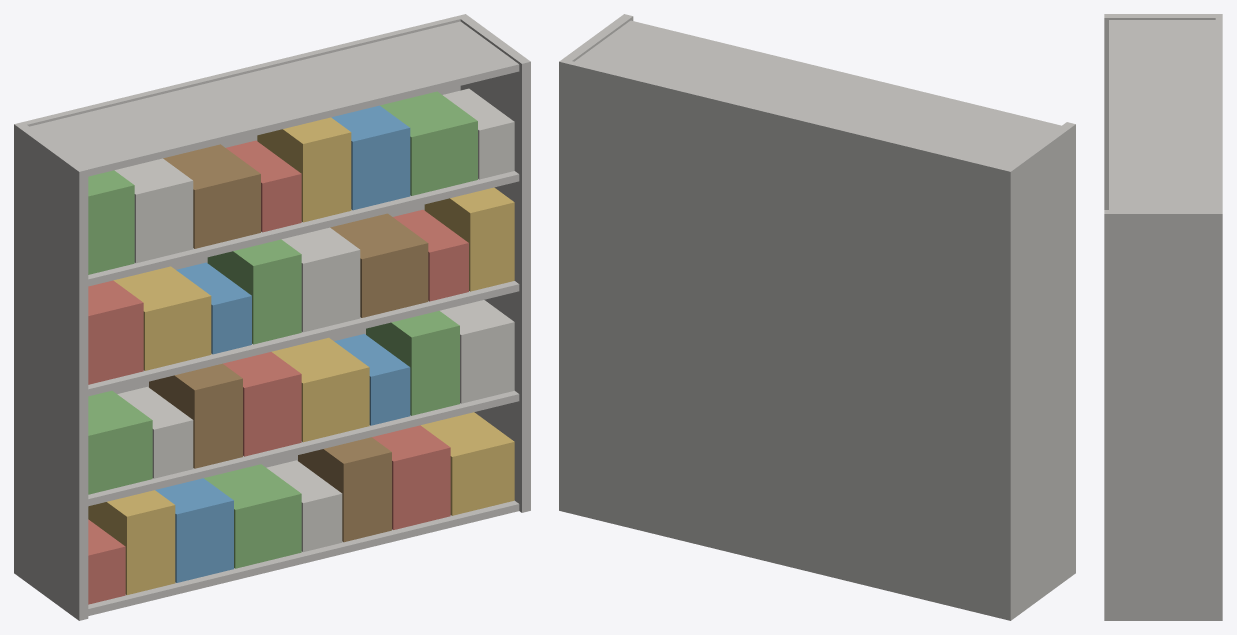
The model's file is 0897-Furniture-interiors-shelf.glb.
3 views of the same model, side by side, from view 1: azimuth 30°, elevation 25°; view 2: azimuth 150°, elevation 25°; view 3: azimuth 270°, elevation 25° (orthographic). The views are drawn at different scales.
Visible parts, largest first — view 1: Furniture (interiors)/shelf; view 2: Furniture (interiors)/shelf; view 3: Furniture (interiors)/shelf.
Part boxes in pixels (bbox=[...]): Furniture (interiors)/shelf: bbox=[14, 14, 530, 620]; Furniture (interiors)/shelf: bbox=[559, 14, 1075, 620]; Furniture (interiors)/shelf: bbox=[1104, 14, 1222, 620].
Size of the model in its own units: 2 by 1.9 by 0.5.
